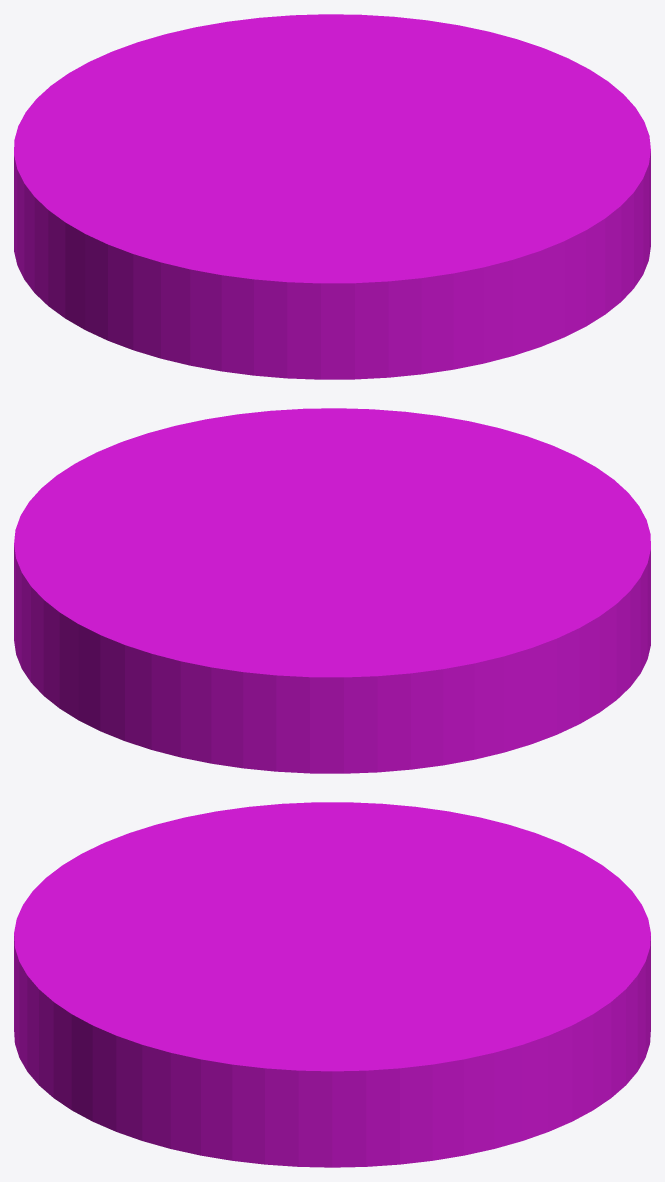
File: cylinder_purple_v2.dae
3 renders of one model, top to bottom at view 1: azimuth 30°, elevation 25°; view 2: azimuth 150°, elevation 25°; view 3: azimuth 270°, elevation 25°, orthographic.
Parts seen in each view (by area): view 1: cylinder; view 2: cylinder; view 3: cylinder.
Boxes of the visible parts, x1,y1,x2,y2 form: cylinder: (14, 14, 650, 379); cylinder: (14, 408, 650, 773); cylinder: (14, 802, 650, 1167).
Bounding box in the file's own units: 0.03 × 0.03 × 0.005.
